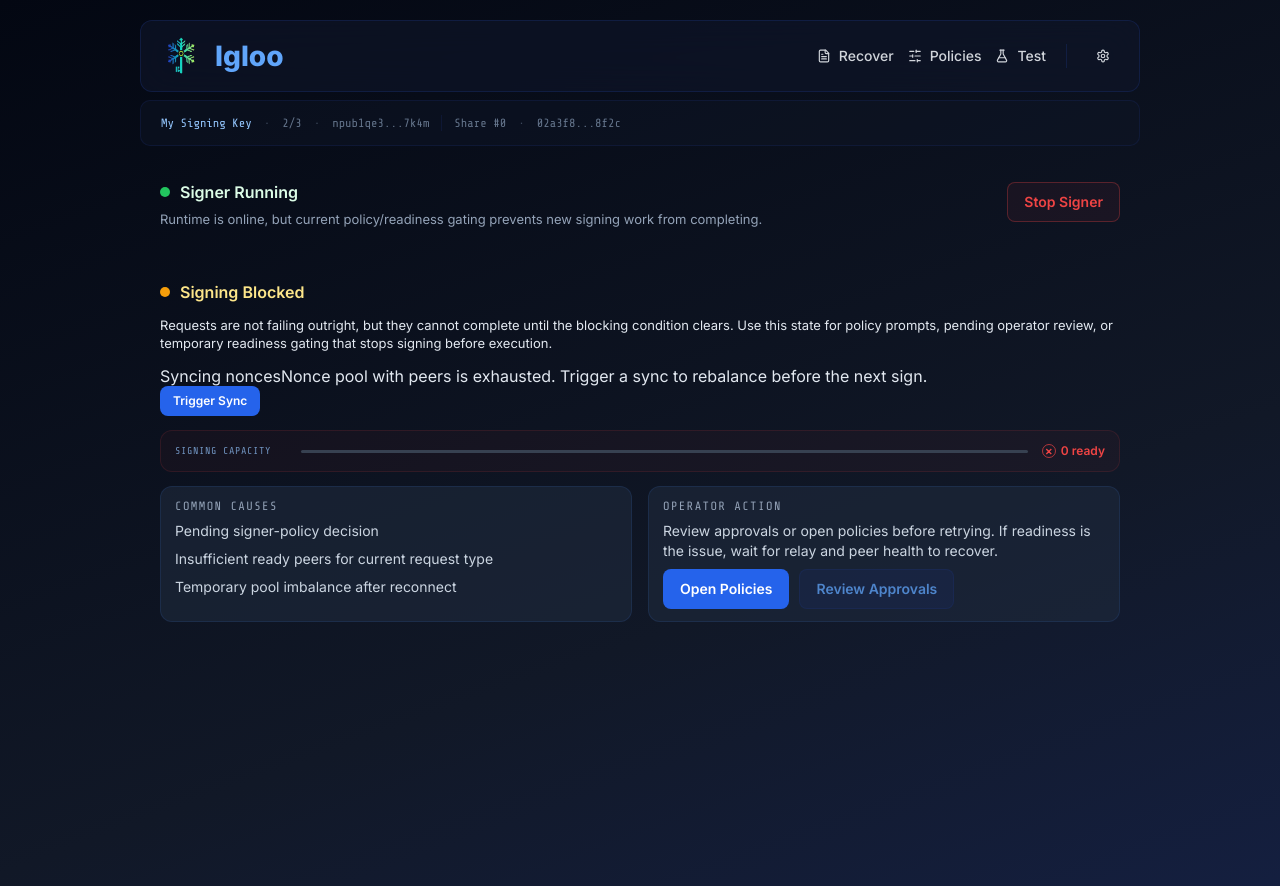
Test case: Settings Sidebar › adding a relay adds it to the list
Click the button named "Settings" at (1103, 56), box [1087, 40, 1119, 72]
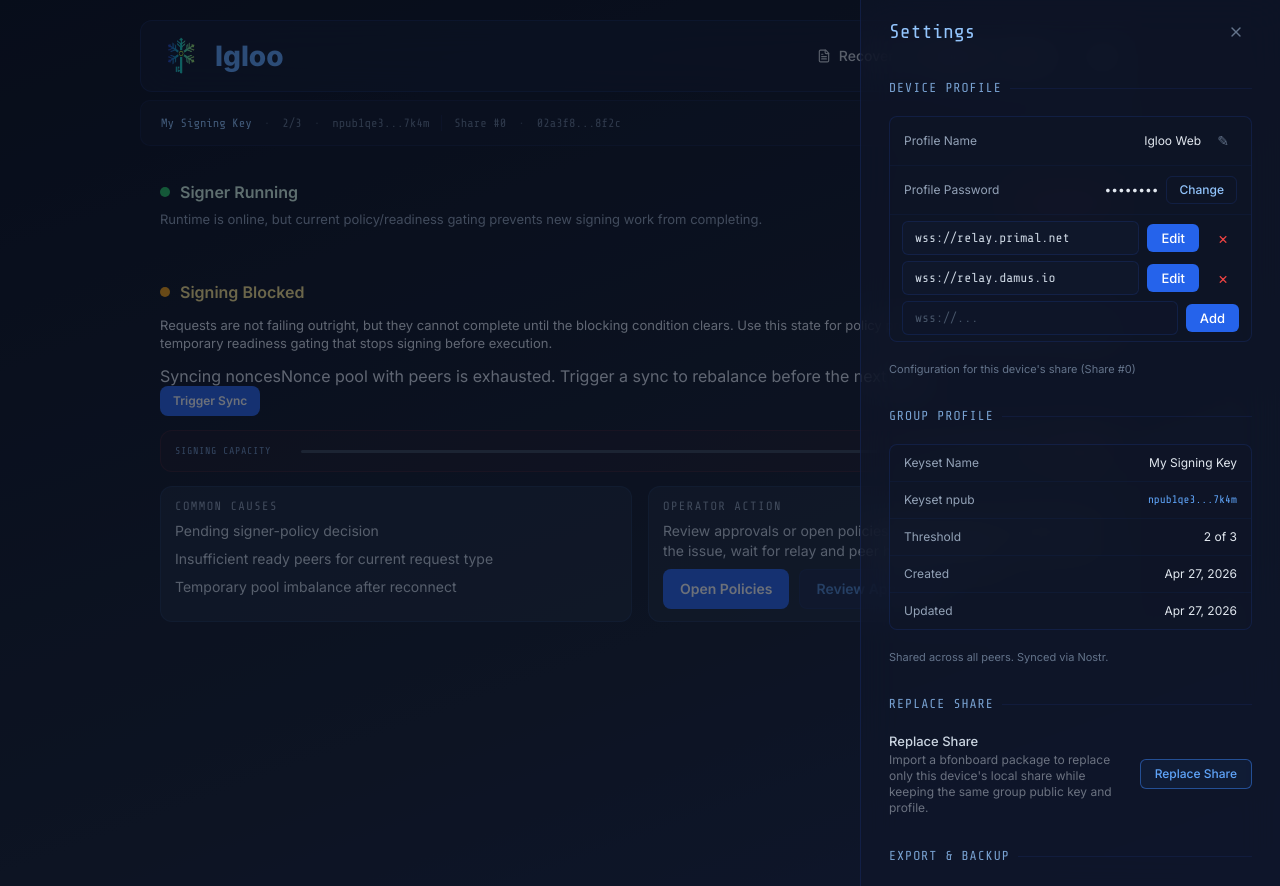
Type "wss://nos.lol" into the field with placeholder "wss://..." at (1040, 318), box [902, 301, 1178, 335]
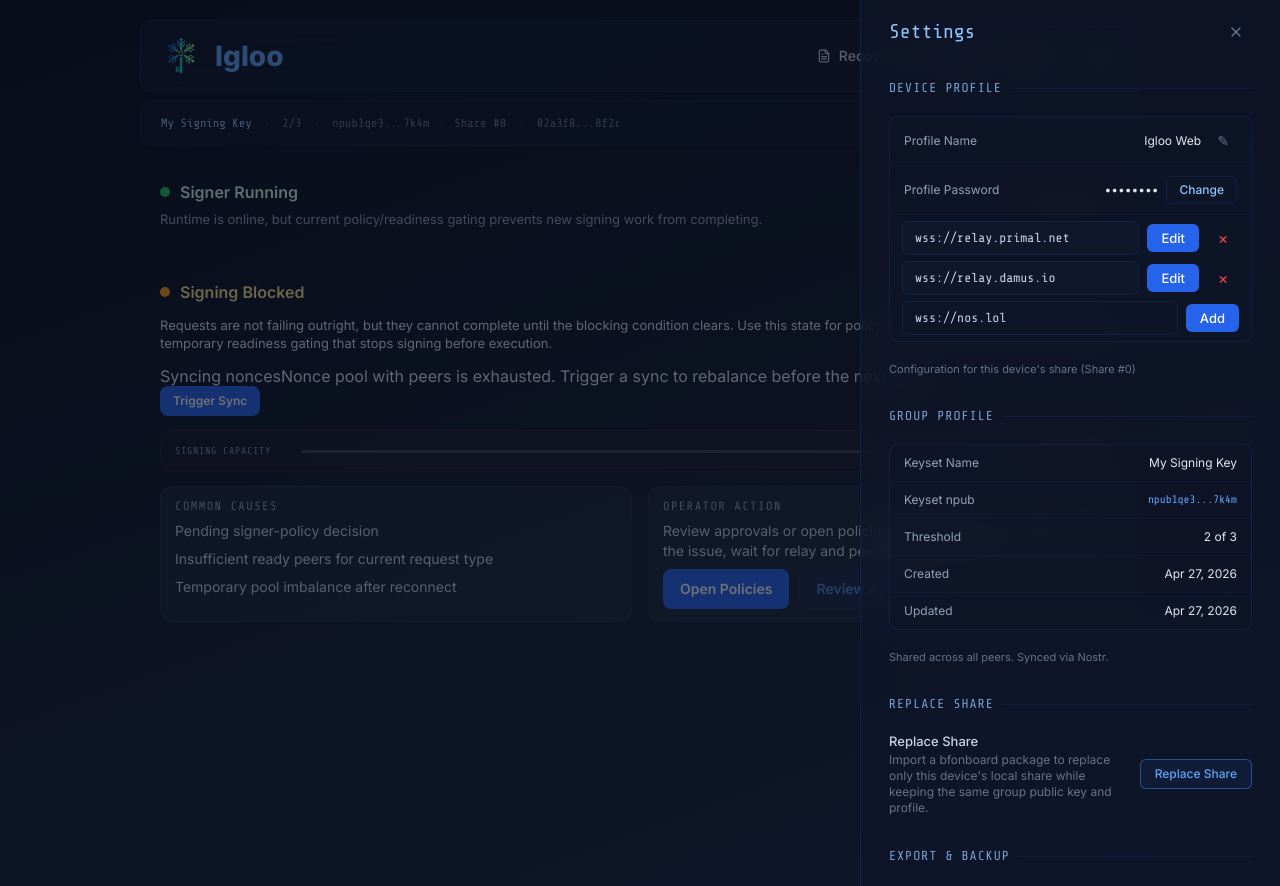
Click the button "Add" at (1212, 318), box [1186, 304, 1239, 332]
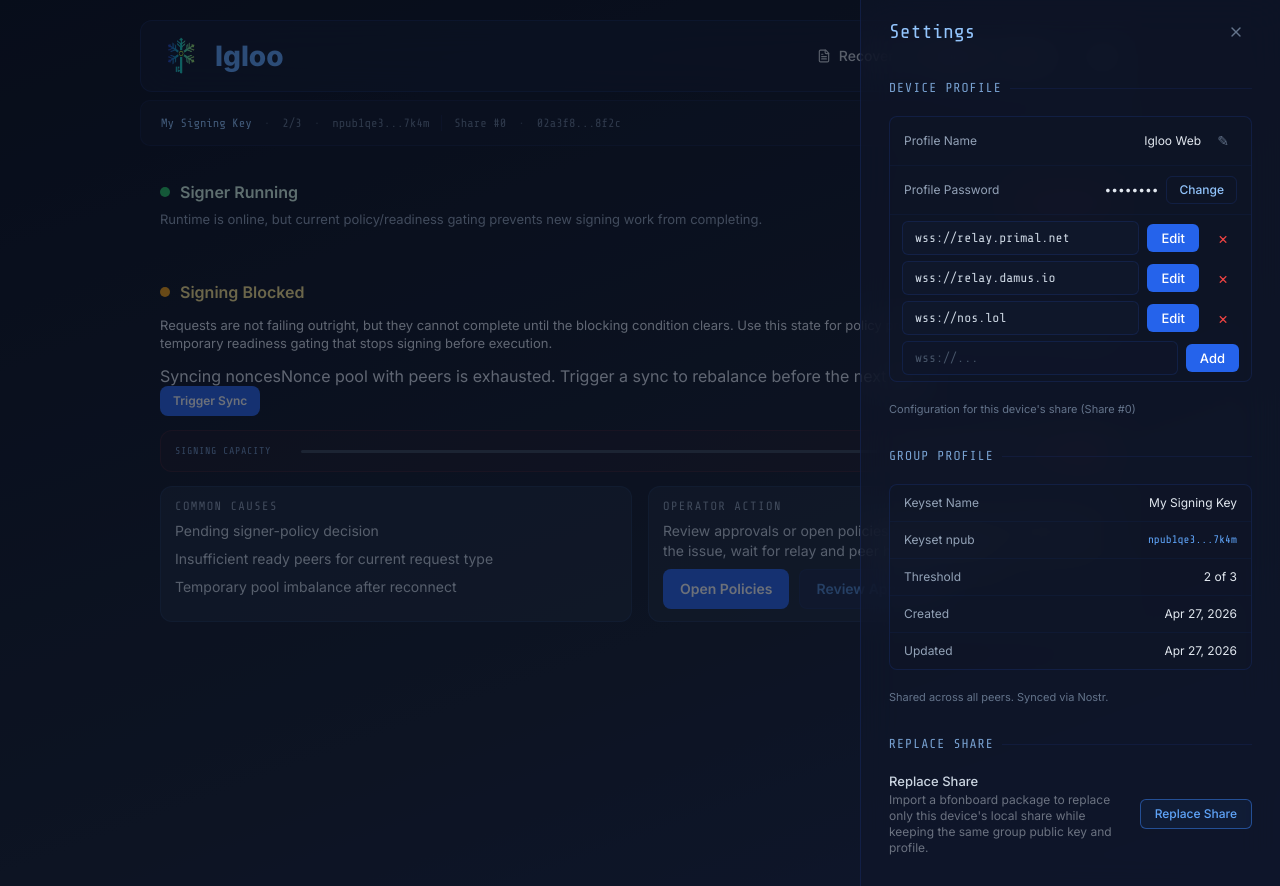
Check: the text "wss://nos.lol" is shown, box [902, 301, 1139, 335]
